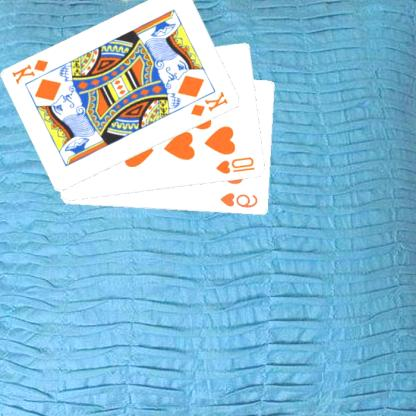10H: (215, 154, 258, 176)
6H: (219, 191, 262, 210)
KD: (190, 89, 231, 118), (11, 57, 52, 86)
